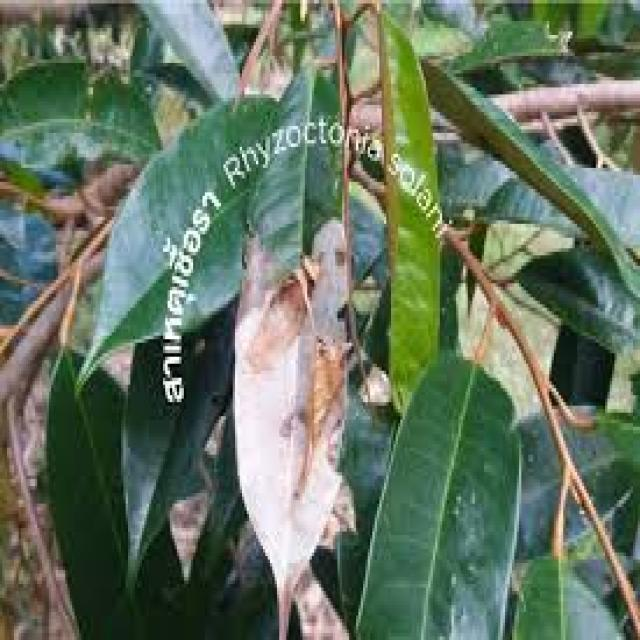Leaf Blight: (238, 226, 346, 635)
